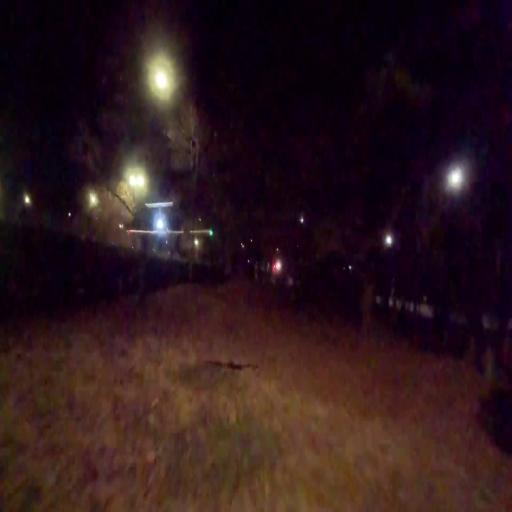uav: (122, 196, 216, 254)
